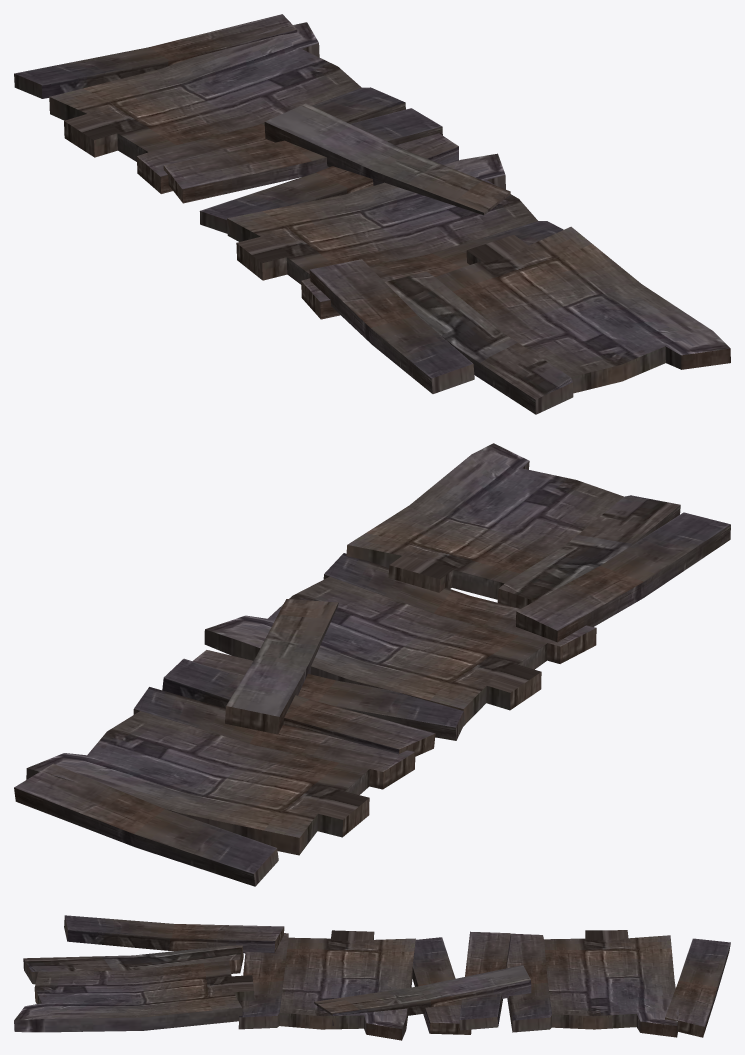
File: Battle05_Road_02.FBX
3 views of the same model, one above another, from view 1: azimuth 30°, elevation 25°; view 2: azimuth 150°, elevation 25°; view 3: azimuth 270°, elevation 25° (orthographic). The views are drawn at different scales.
Visible parts, largest first — view 1: Battle05_Road_02; view 2: Battle05_Road_02; view 3: Battle05_Road_02.
Boxes of the visible parts, x1,y1,x2,y2 form: Battle05_Road_02: (14, 14, 730, 414); Battle05_Road_02: (14, 443, 730, 886); Battle05_Road_02: (14, 915, 730, 1040).
Size of the model in its own units: 7.3 by 0.9944 by 20.68.
